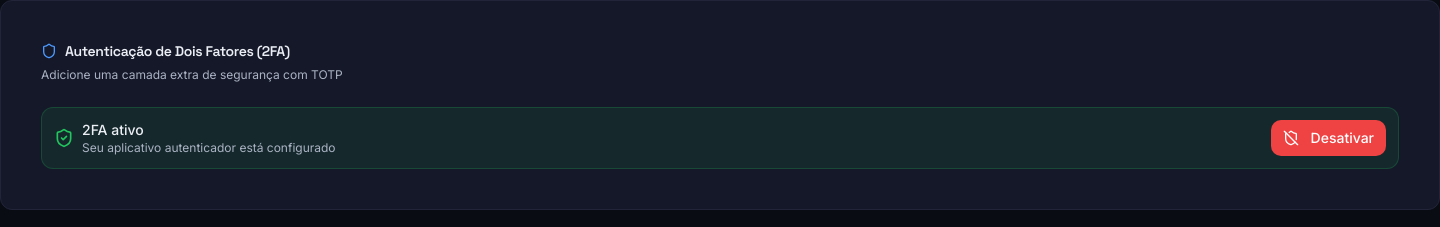
it: Configuração e confirmação MFA › invalida a confirmação após remover MFA mesmo se a renovação falhar
This screenshot has width=1440, height=227.
Click the button "Desativar" at (1328, 138), box [1271, 120, 1386, 156]
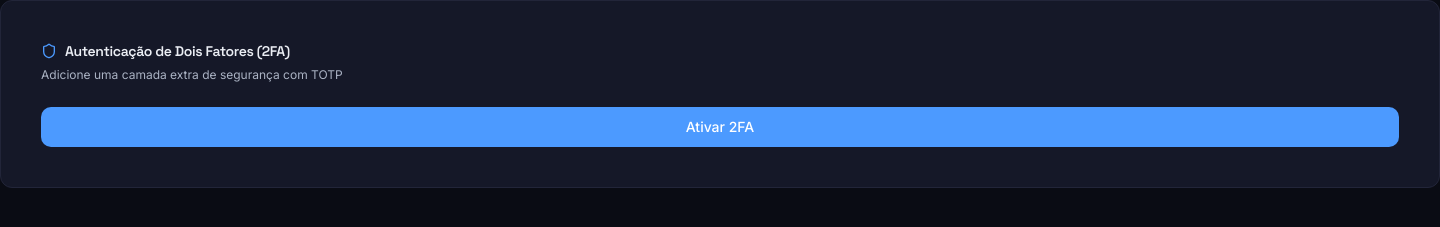
Result: the button "Ativar 2FA" is shown at [41, 107, 1399, 147]
